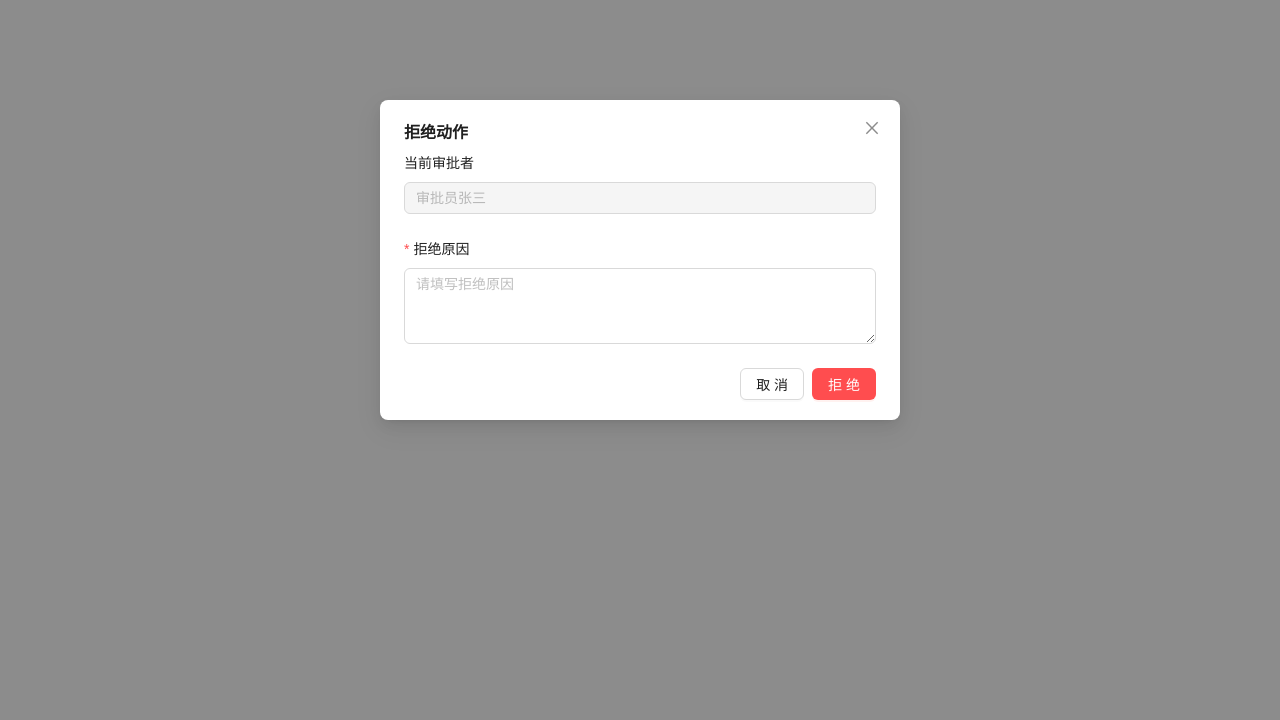
ApprovalActionModal › requires reject comment
Click the button "拒 绝" at (844, 384), box [812,368,876,400]
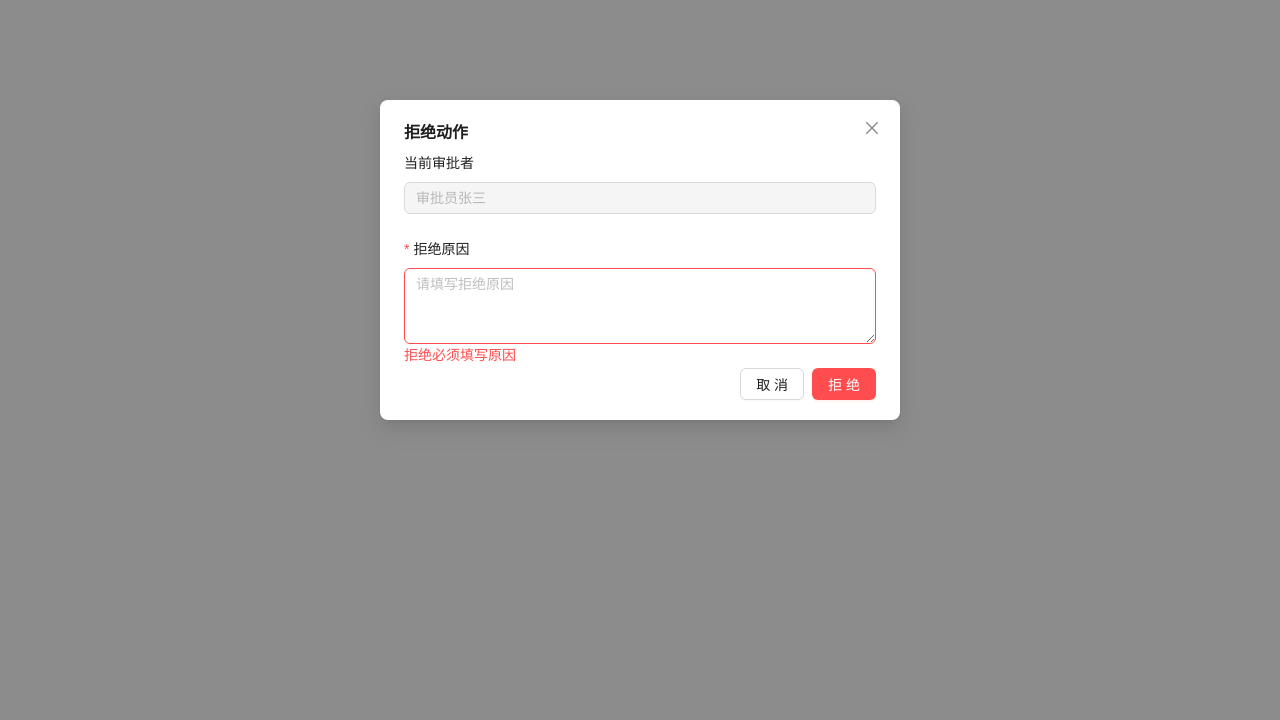
Check: the text "拒绝必须填写原因" is shown, box [404,346,516,363]
